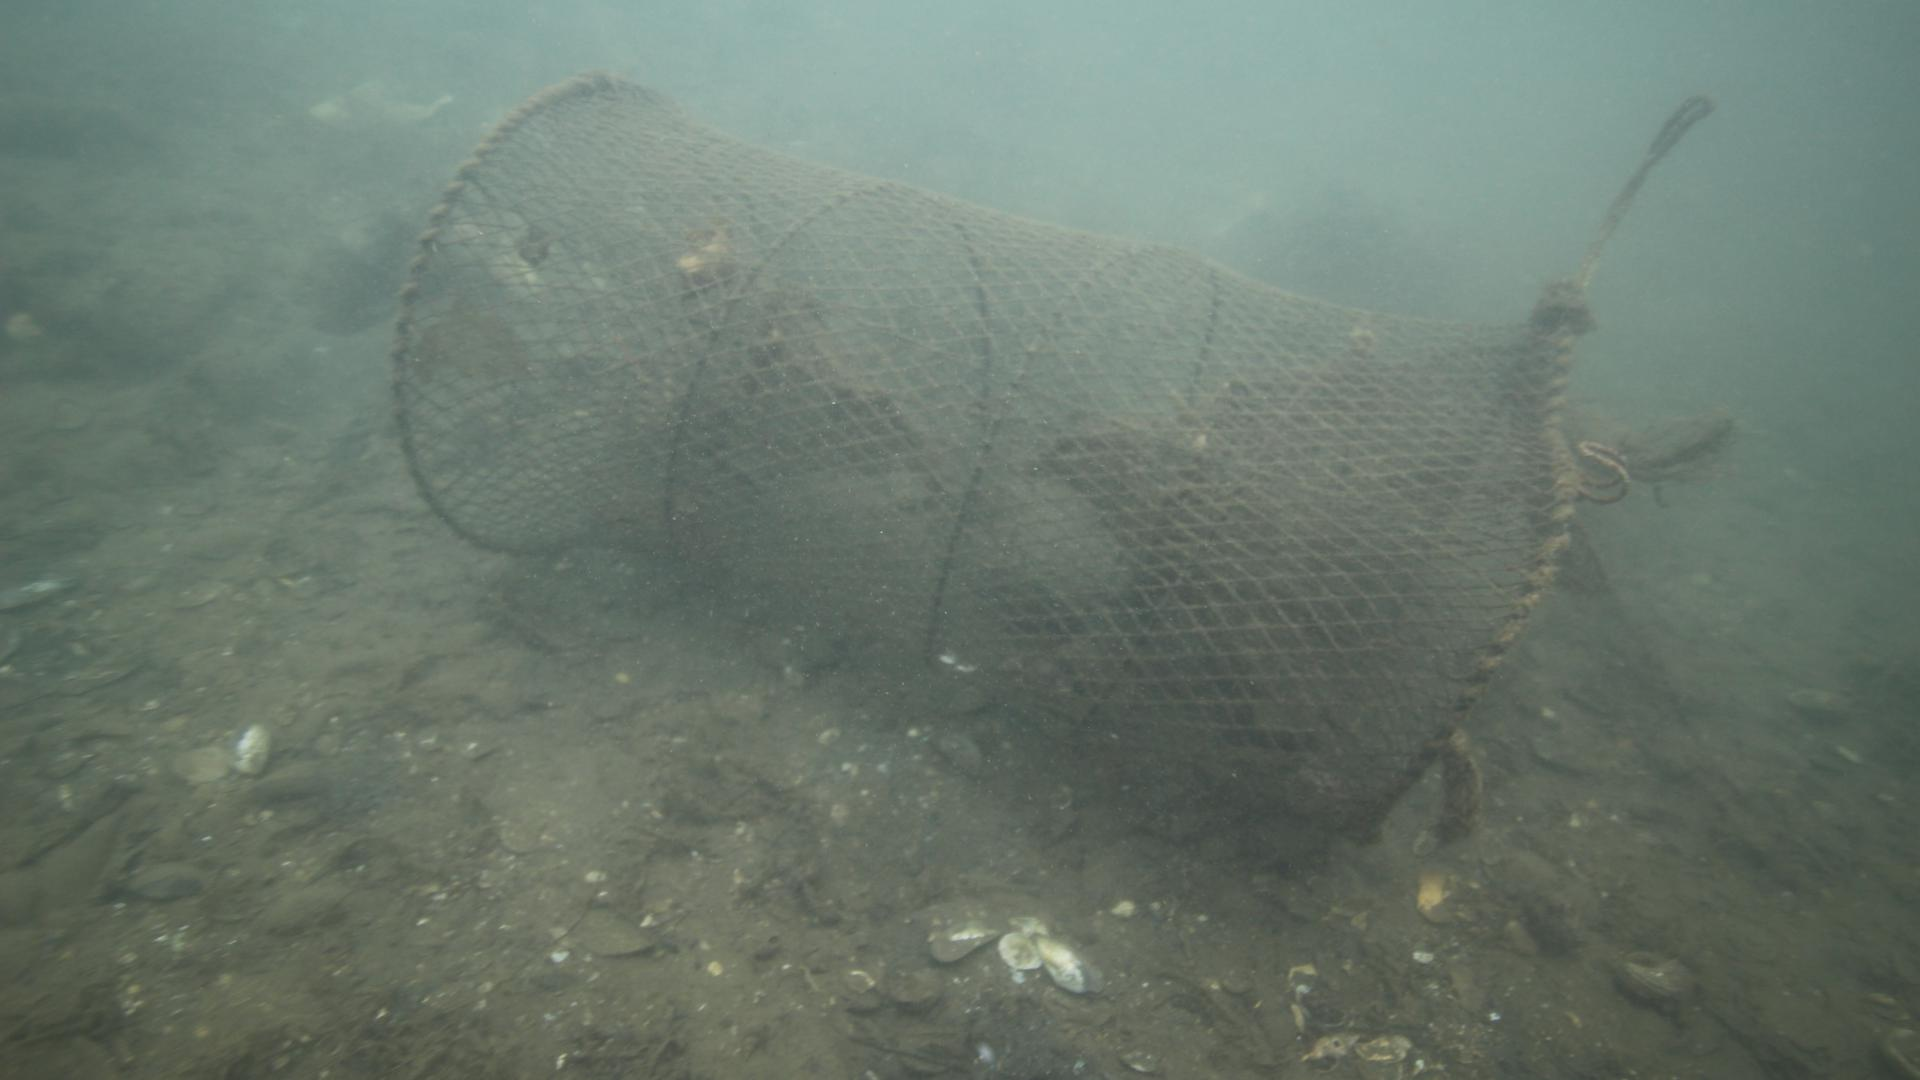bundle of ropes: (1538, 88, 1724, 305)
spring fish trap: (390, 73, 1575, 839)
